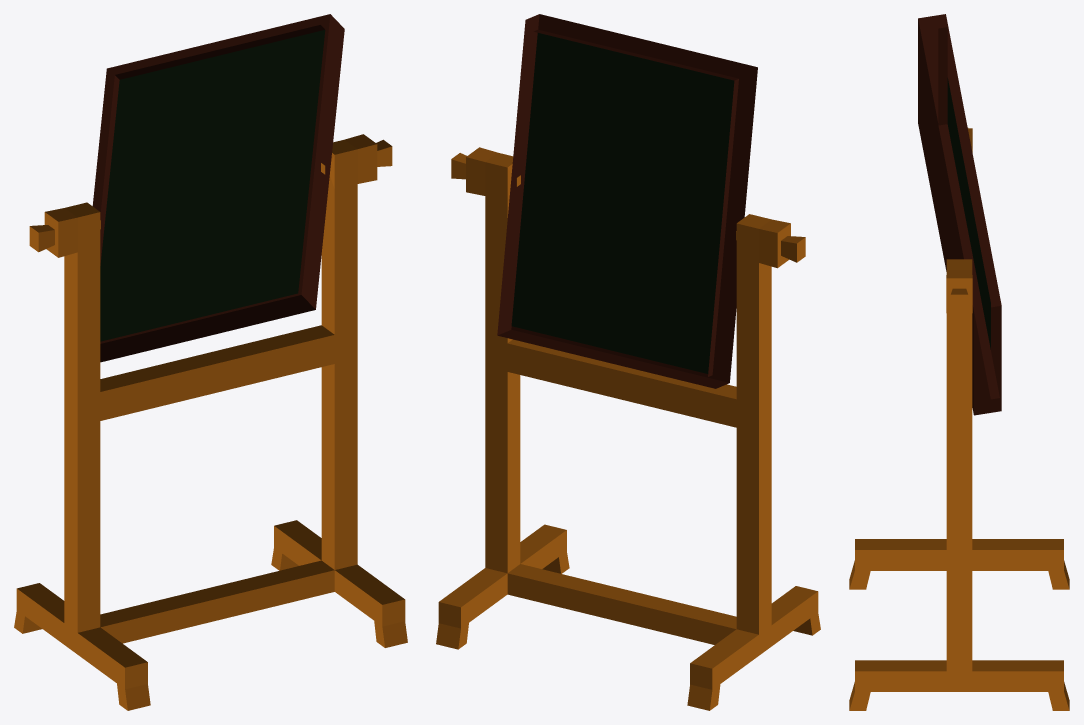
The model's file is Easel.fbx.
The picture shows the model from 3 angles, left to right: view 1: azimuth 30°, elevation 25°; view 2: azimuth 150°, elevation 25°; view 3: azimuth 270°, elevation 25°; orthographic projection. The views are drawn at different scales.
Visible parts, largest first — view 1: Node 1, Node 0; view 2: Node 1, Node 0; view 3: Node 0, Node 1.
Part boxes in pixels (x1,y1,x2,y2): Node 1: (92, 14, 344, 362); Node 0: (14, 134, 407, 710); Node 1: (497, 14, 757, 388); Node 0: (436, 147, 820, 710); Node 0: (849, 128, 1069, 710); Node 1: (918, 14, 1001, 415).
Size of the model in its own units: 0.5068 by 1.47 by 0.909.
